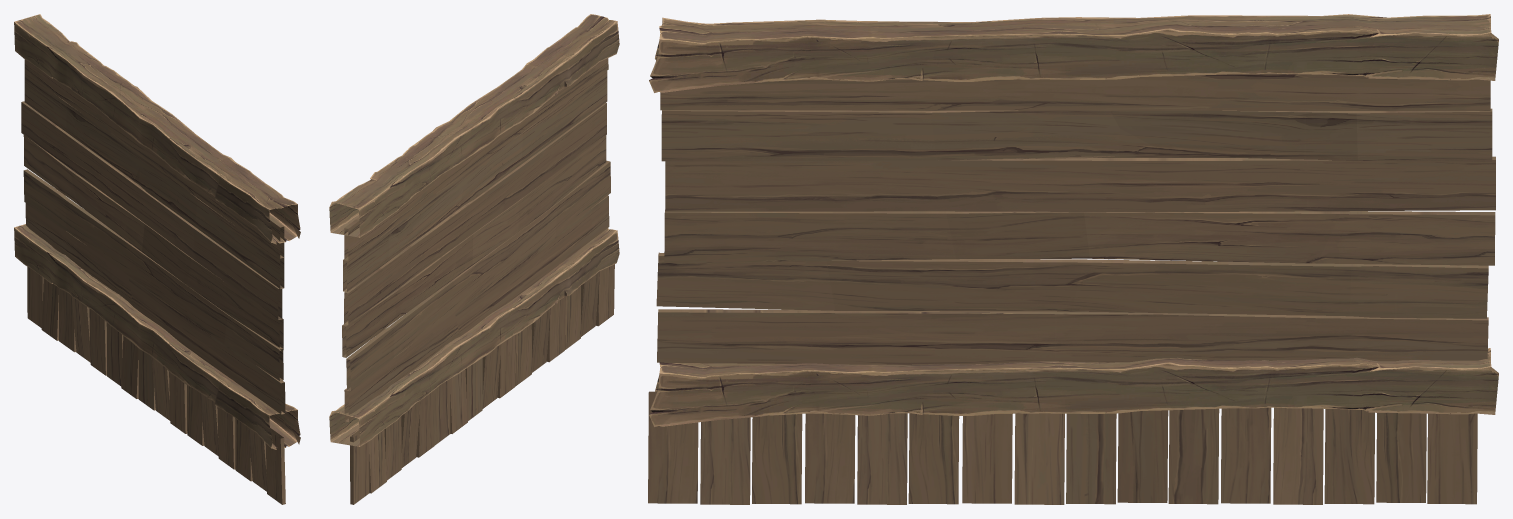
File: wood_wall.fbx
The picture shows the model from 3 angles, left to right: view 1: azimuth 30°, elevation 25°; view 2: azimuth 150°, elevation 25°; view 3: azimuth 270°, elevation 25°; orthographic projection. The views are drawn at different scales.
Visible parts, largest first — view 1: Object003; view 2: Object003; view 3: Object003.
Part boxes in pixels (x1,y1,x2,y2): Object003: (14,14,300,504); Object003: (329,14,619,504); Object003: (648,14,1498,504).
Size of the model in its own units: 0.3256 by 2.88 by 4.6.
